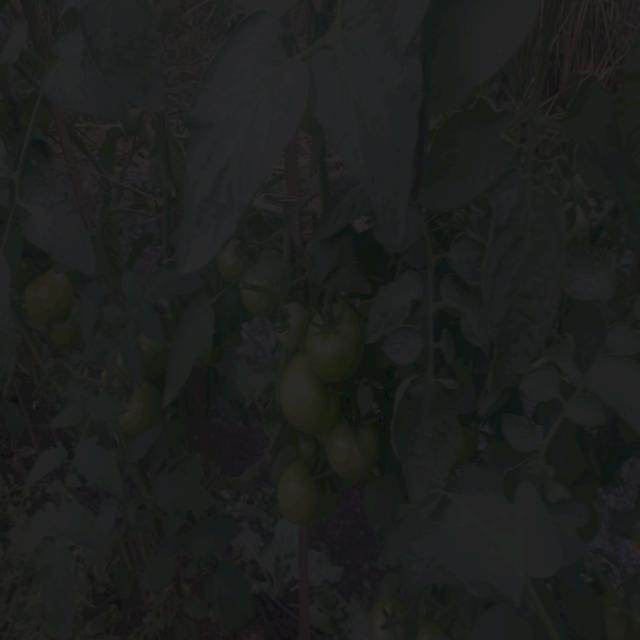tomato: (310, 303, 370, 387), (278, 357, 346, 424), (22, 270, 77, 323), (331, 416, 378, 478), (277, 462, 327, 519), (270, 303, 322, 357), (372, 596, 414, 639), (121, 385, 157, 434), (239, 280, 273, 313), (214, 243, 249, 274), (45, 323, 75, 352), (125, 102, 146, 132), (138, 336, 158, 364), (175, 124, 190, 147)
